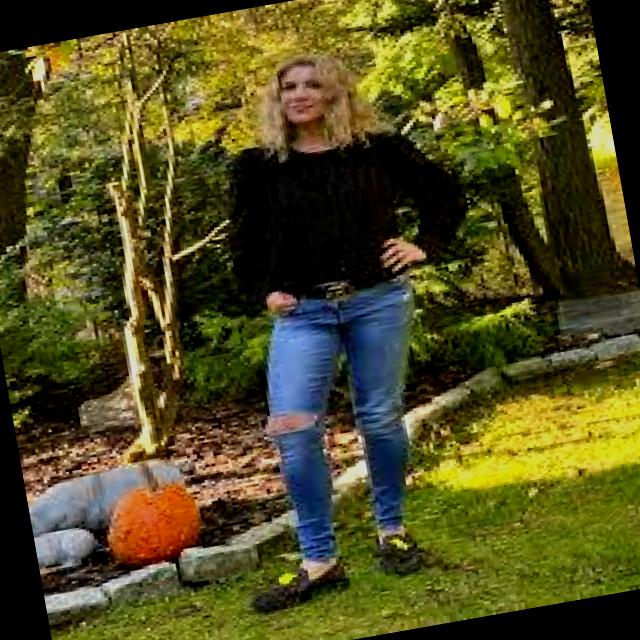foot-wear: (250, 562, 349, 612), (377, 533, 425, 576)
